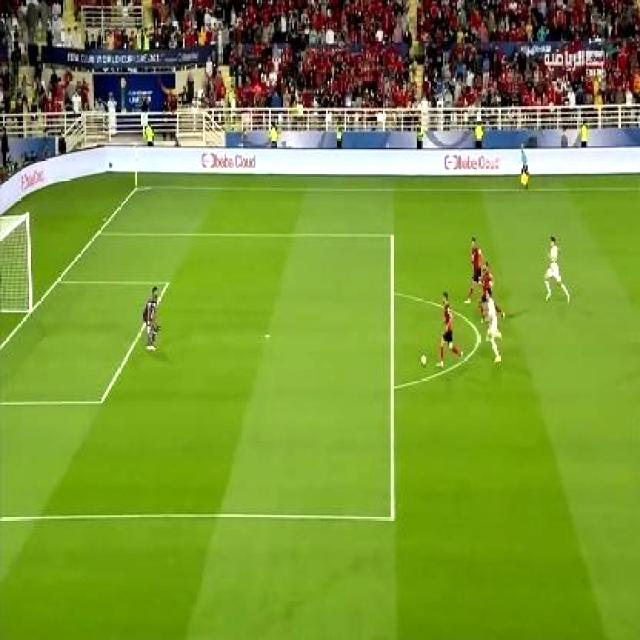bigarea_bottom_inner: (380, 502, 402, 529)
bigarea_top_inner: (384, 226, 398, 245)
bigarea_top_outter: (91, 223, 106, 240)
bottom_arc_area_intersection: (383, 376, 400, 396)
corner: (128, 178, 146, 194)
smallarea_bottom_inner: (89, 383, 111, 415)
smallarea_top_inner: (157, 271, 175, 294)
smallarea_top_outter: (49, 268, 66, 289)
top_arc_area_intersection: (385, 282, 400, 300)
